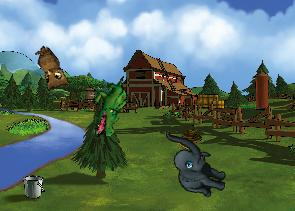crocodile: (90, 76, 130, 138)
elephant: (154, 130, 234, 200)
owl: (23, 43, 74, 97)
